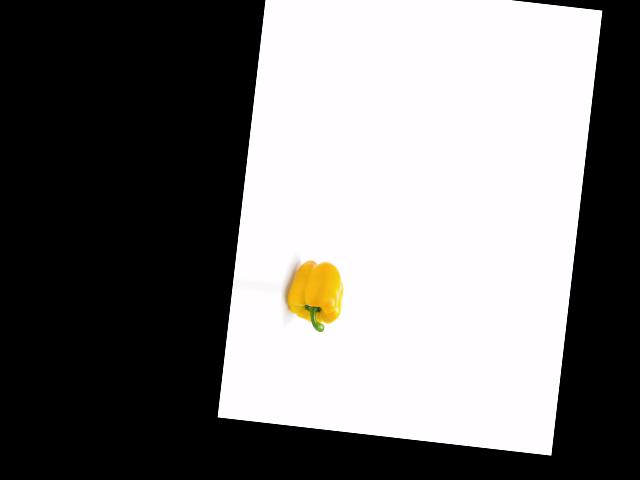bell_pepper: (283, 256, 349, 340)
